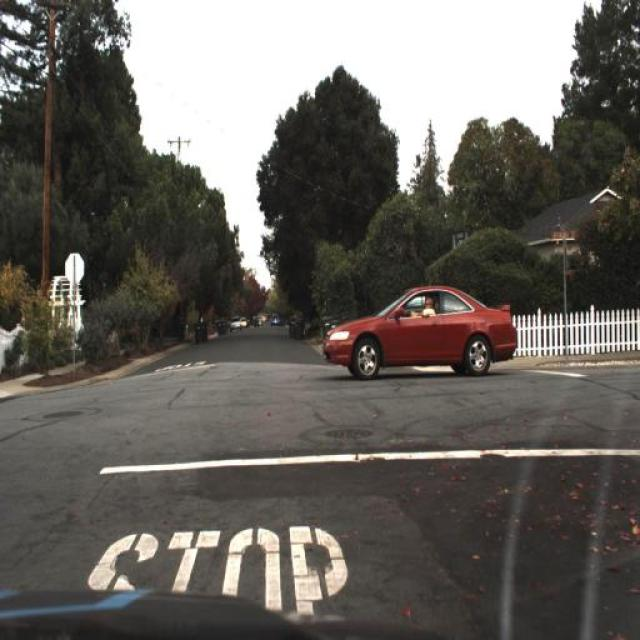car: (315, 279, 519, 383), (230, 316, 241, 332)
